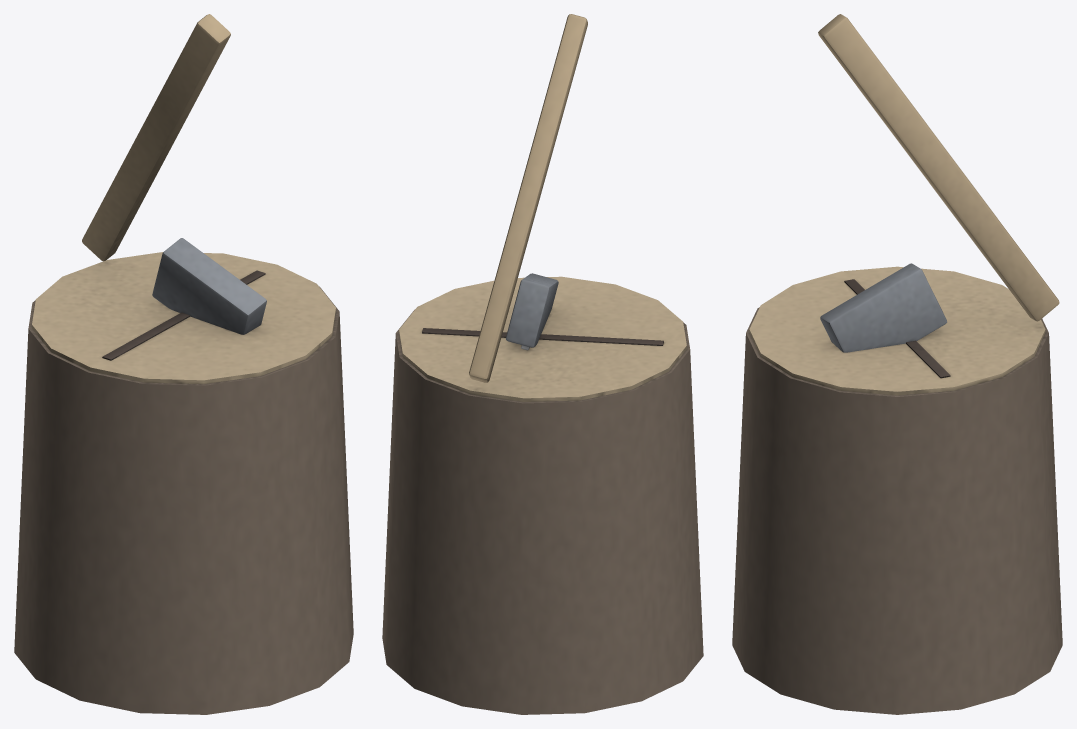
The model's file is axe_stump.glb.
The picture shows the model from 3 angles, left to right: view 1: azimuth 30°, elevation 25°; view 2: azimuth 150°, elevation 25°; view 3: azimuth 270°, elevation 25°; orthographic projection. The views are drawn at different scales.
Parts seen in each view (by area): view 1: axe_stump; view 2: axe_stump; view 3: axe_stump.
Part boxes in pixels (x1,y1,x2,y2): axe_stump: [14, 14, 353, 714]; axe_stump: [382, 14, 703, 714]; axe_stump: [732, 14, 1062, 714].
Size of the model in its own units: 0.48 by 1 by 0.48.
Materials: 1 (1 with a texture image).
